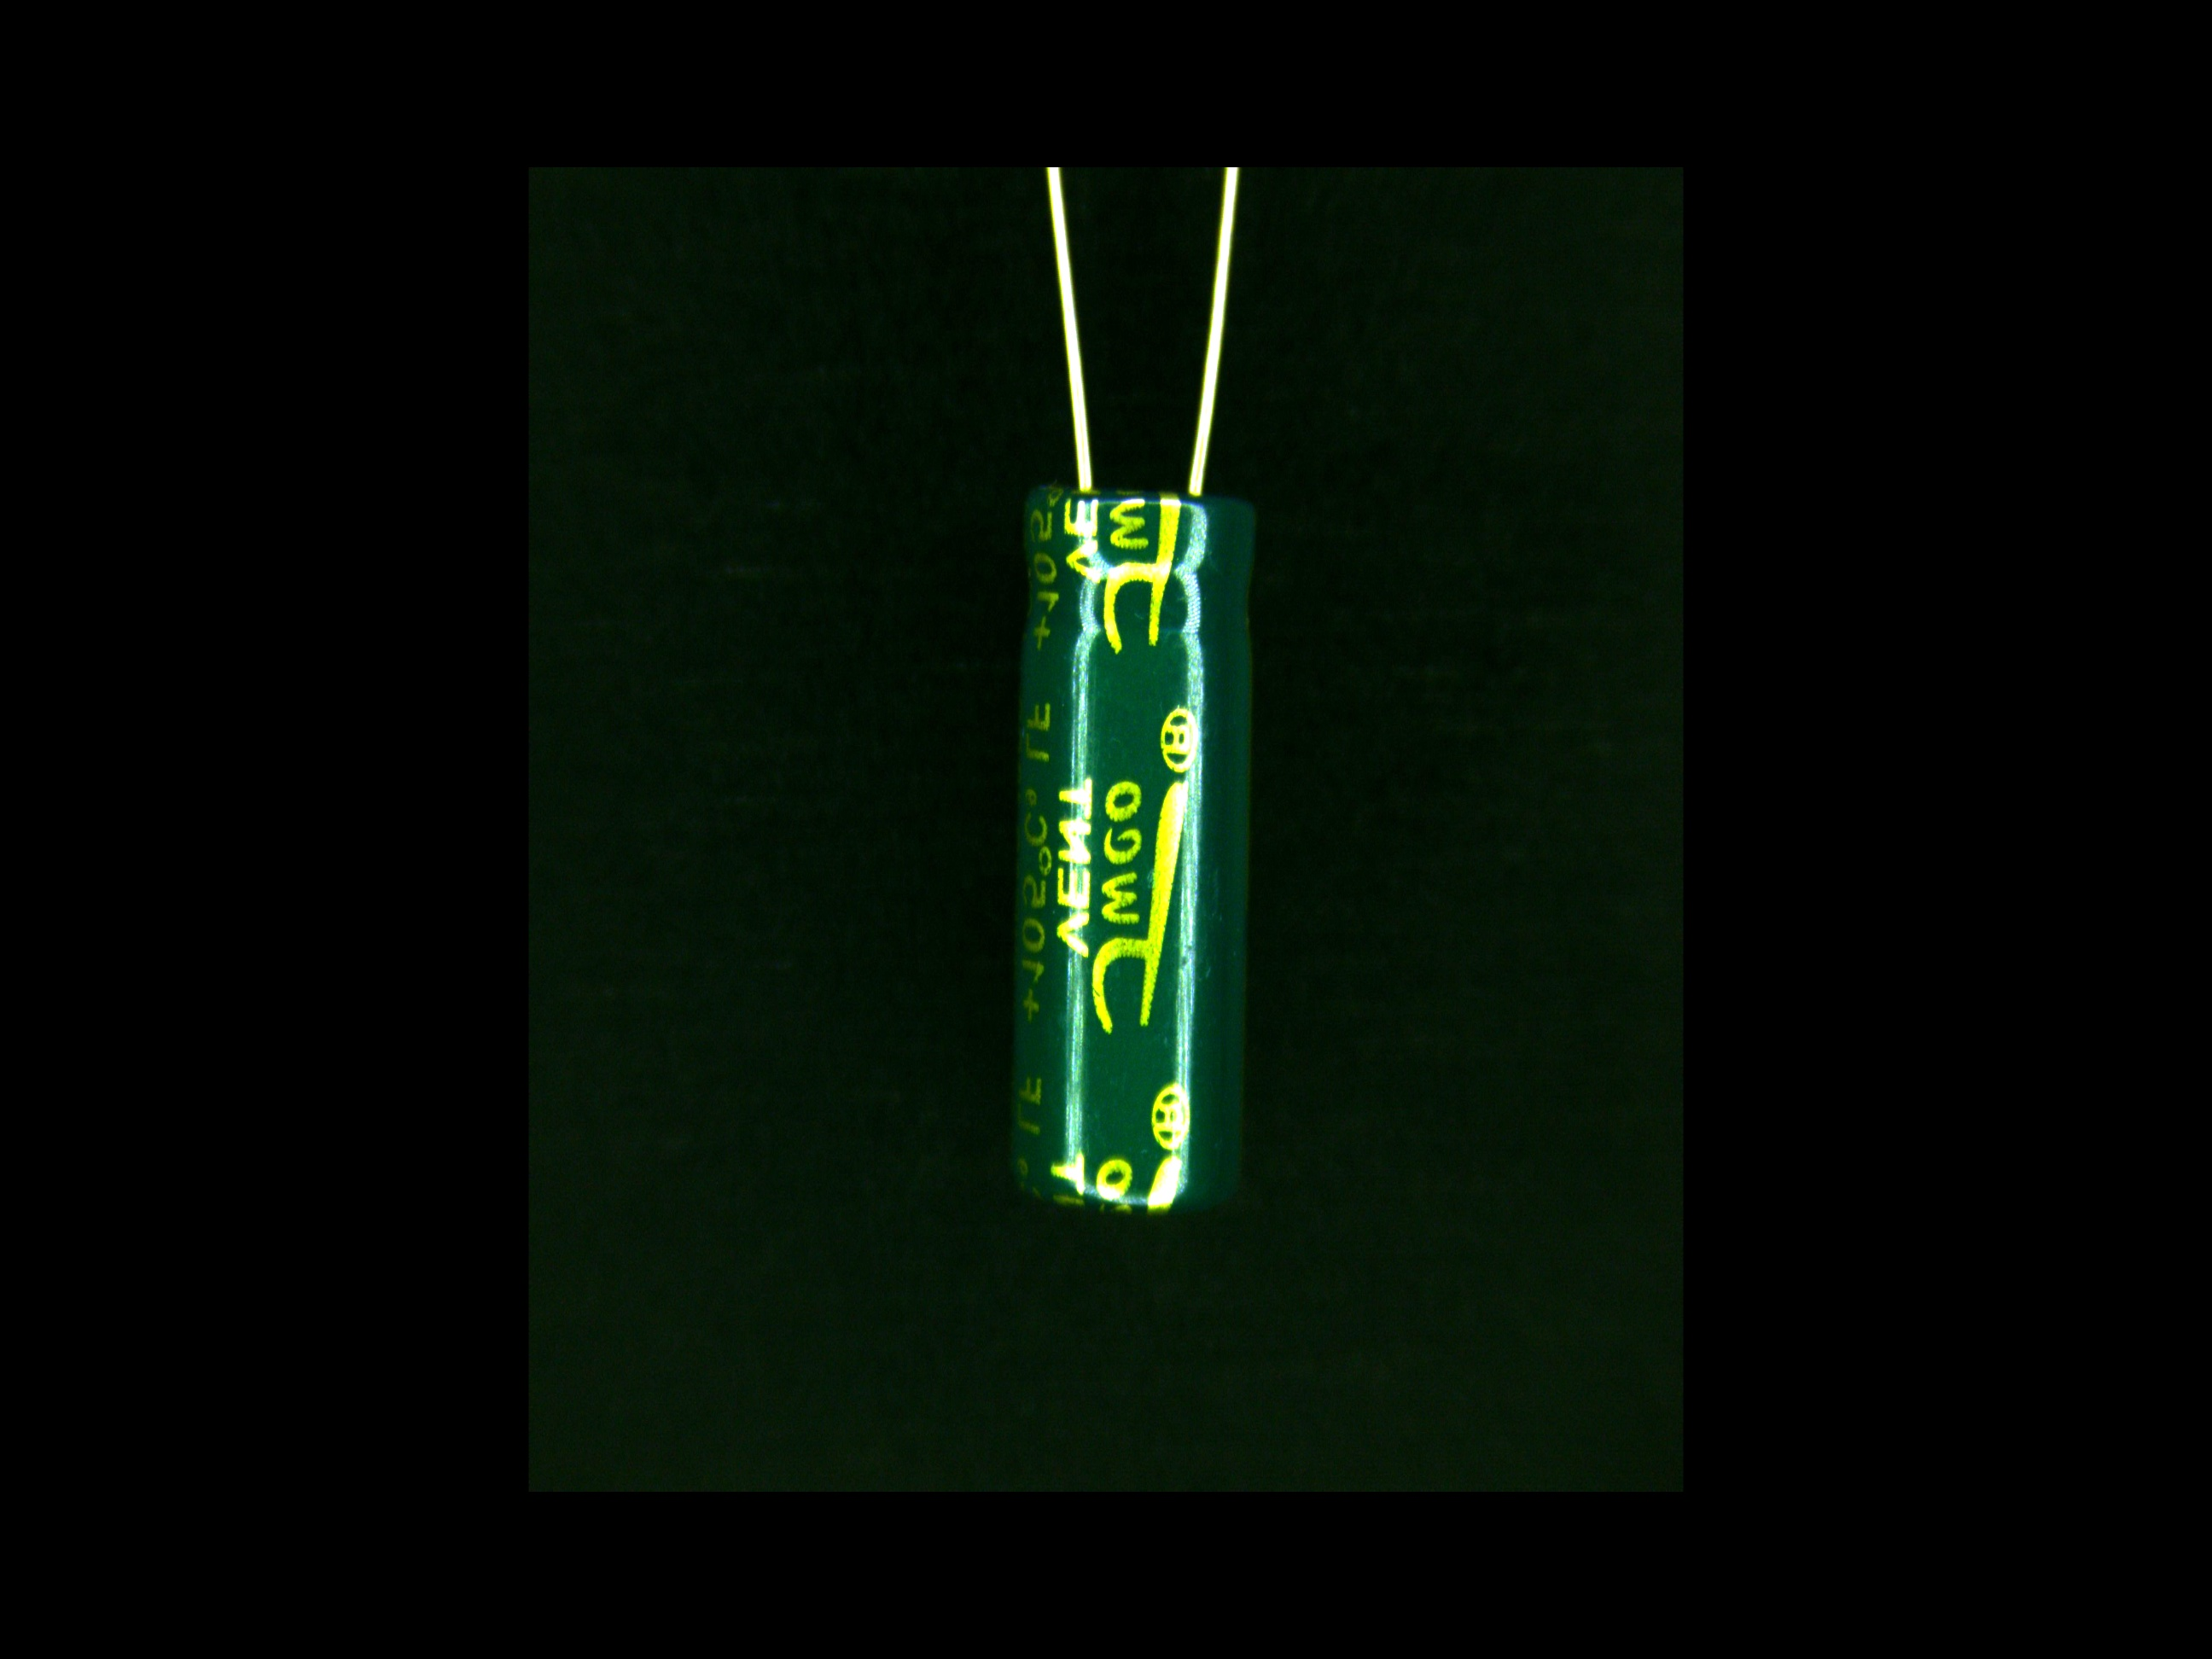c1: (1007, 397, 1261, 1216)
